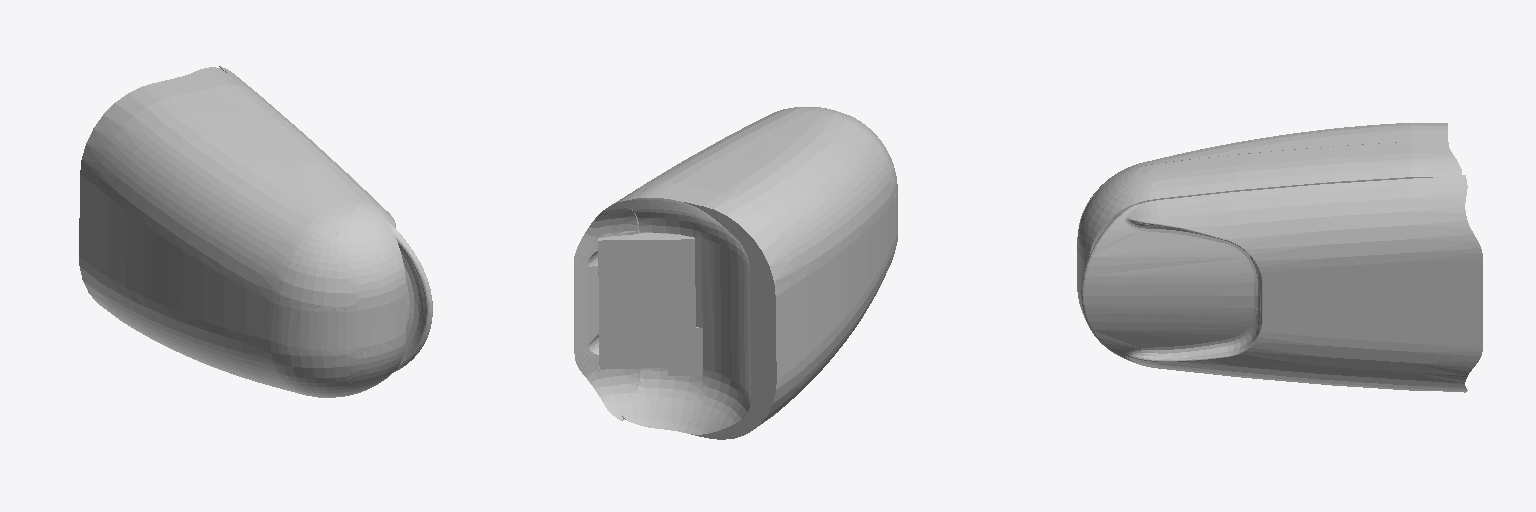
File: right_f_distal_pst.obj
The picture shows the model from 3 angles: view 1: azimuth 30°, elevation 25°; view 2: azimuth 150°, elevation 25°; view 3: azimuth 270°, elevation 25°; orthographic projection.
Visible parts, largest first — view 1: right_f_distal_pst; view 2: right_f_distal_pst; view 3: right_f_distal_pst.
Part boxes in pixels (bbox=[...]): right_f_distal_pst: bbox=[79, 66, 432, 397]; right_f_distal_pst: bbox=[574, 107, 897, 439]; right_f_distal_pst: bbox=[1077, 123, 1482, 392].
Size of the model in its own units: 0.0144 by 0.0172 by 0.0273.